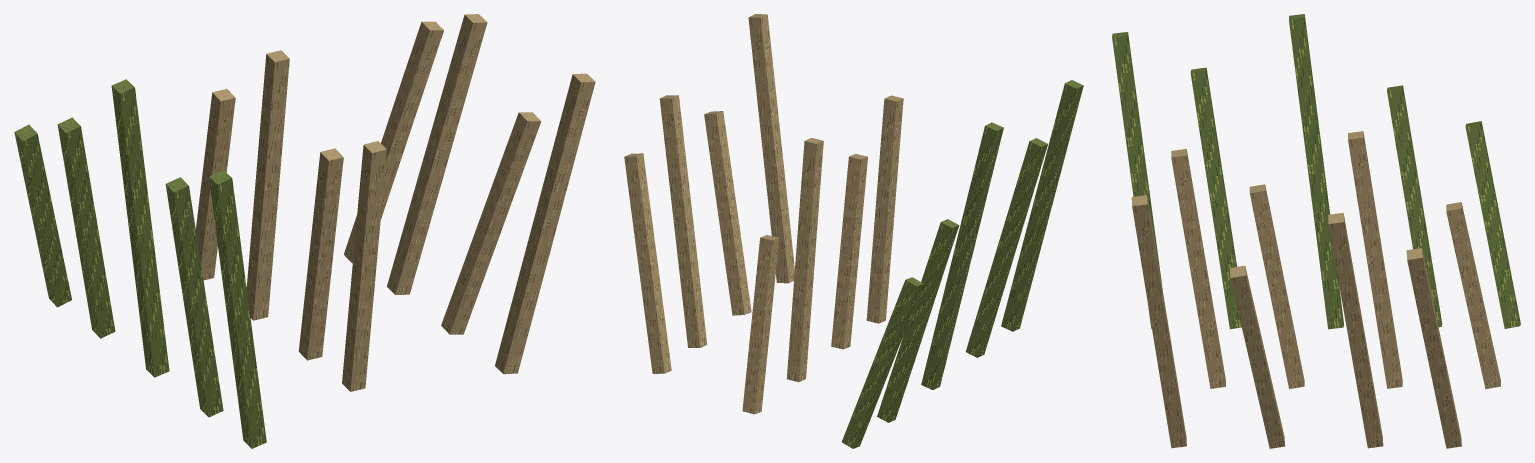
Rendered from dune_grass.gltf.
3 views of the same model, side by side, from view 1: azimuth 30°, elevation 25°; view 2: azimuth 150°, elevation 25°; view 3: azimuth 270°, elevation 25° (orthographic). The views are drawn at different scales.
Parts seen in each view (by area): view 1: blade (×13); view 2: blade (×13); view 3: blade (×13).
Boxes of the visible parts, x1,y1,x2,y2 form: blade (×13): [14, 14, 595, 448]; blade (×13): [624, 14, 1083, 448]; blade (×13): [1112, 14, 1520, 448].
Bounding box in the file's own units: 1.3 × 1.02 × 1.3.
Materials: 2 (2 with a texture image).
